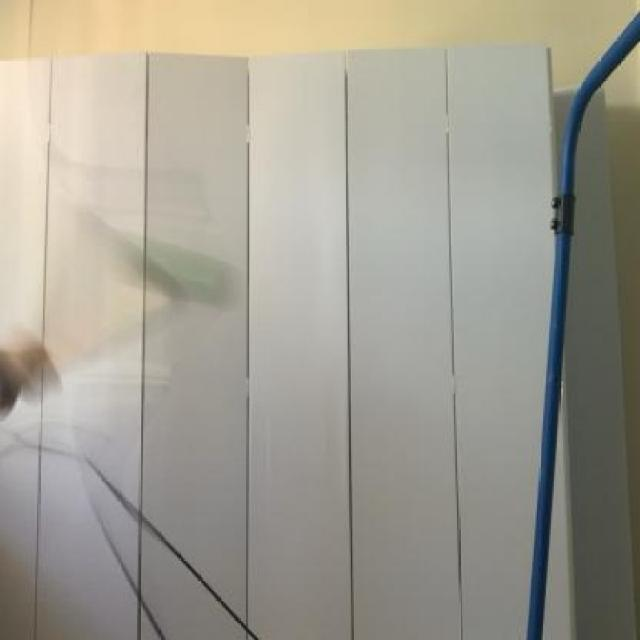baseball: (100, 231, 248, 311)
